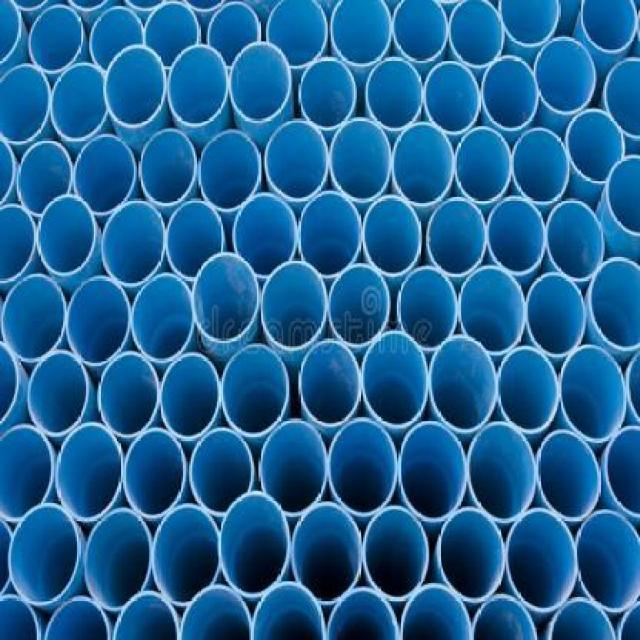pipe: (218, 493, 291, 599), (9, 502, 82, 607), (506, 508, 577, 614), (292, 502, 363, 607), (85, 508, 154, 613), (153, 503, 222, 606), (399, 420, 468, 522), (469, 422, 537, 524), (430, 336, 499, 436), (328, 417, 397, 517), (55, 422, 123, 522), (559, 345, 628, 443), (575, 510, 640, 613), (259, 420, 328, 517), (362, 331, 430, 428), (222, 345, 291, 438), (439, 506, 505, 602), (365, 506, 430, 602), (192, 252, 260, 343), (262, 260, 330, 351), (459, 267, 527, 356), (68, 277, 133, 368), (537, 431, 602, 522), (2, 274, 68, 362), (131, 274, 196, 363), (189, 428, 254, 517), (298, 339, 360, 430), (123, 430, 186, 519), (102, 200, 167, 286), (299, 191, 362, 279), (497, 346, 560, 434), (234, 192, 299, 277), (0, 423, 55, 523), (28, 349, 90, 437), (98, 351, 160, 439), (393, 122, 456, 208), (103, 45, 166, 130), (526, 273, 588, 359), (160, 352, 220, 440), (331, 119, 393, 204), (265, 121, 330, 202), (199, 130, 262, 213), (74, 134, 137, 216), (230, 42, 293, 124), (397, 266, 457, 351), (329, 265, 391, 347), (168, 45, 228, 128), (37, 194, 97, 276), (546, 199, 605, 282), (589, 255, 640, 351), (363, 196, 422, 277), (166, 201, 225, 282), (534, 39, 596, 116), (488, 197, 548, 276), (426, 198, 486, 277), (454, 126, 513, 205), (512, 128, 571, 205), (138, 129, 197, 206), (51, 63, 108, 142), (566, 110, 626, 185), (17, 139, 74, 216), (252, 581, 326, 640), (266, 0, 329, 69), (482, 57, 539, 133), (300, 57, 357, 131), (423, 61, 480, 134), (398, 584, 472, 640), (178, 584, 252, 640), (366, 57, 422, 131), (331, 0, 393, 66), (0, 65, 51, 145), (326, 587, 400, 640), (145, 2, 201, 71), (89, 6, 145, 74), (450, 2, 505, 70), (393, 0, 450, 65), (206, 3, 262, 69), (29, 6, 85, 72), (604, 424, 640, 518), (113, 591, 179, 639), (603, 59, 640, 142), (582, 1, 639, 54), (604, 154, 640, 237), (473, 594, 539, 639), (0, 205, 37, 285), (43, 596, 111, 639), (549, 597, 617, 639), (500, 2, 562, 48)
